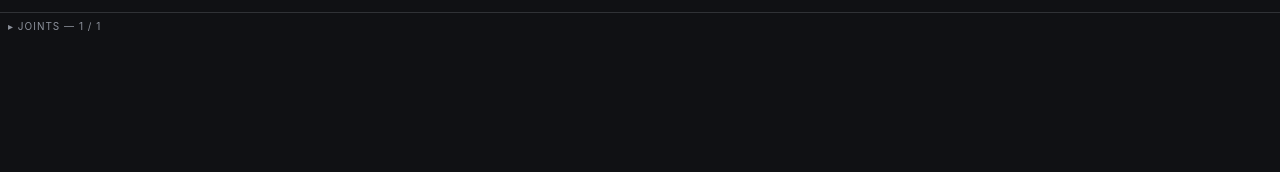
a jointed pair renders a tick and its kind, with no chips
The width and height of the screenshot is (1280, 172).
What coordinates should you click on to do the following:
click the button "▸ Joints — 1 / 1"
I would click on:
 (46, 26)
Its box is [8,13,1272,40].
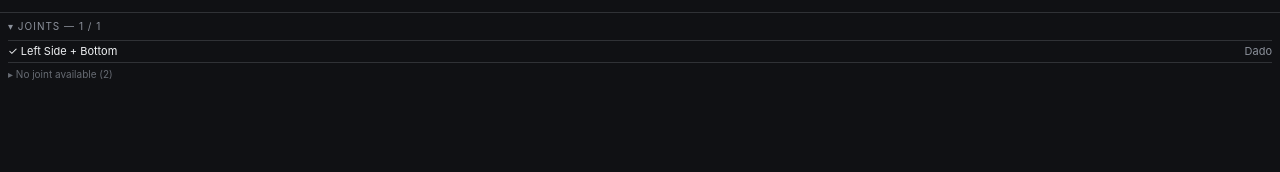
Now the text "✓ Left Side + Bottom" is shown, box [8,44,117,58]
Now the text "Dado" is shown, box [1244,43,1272,60]
